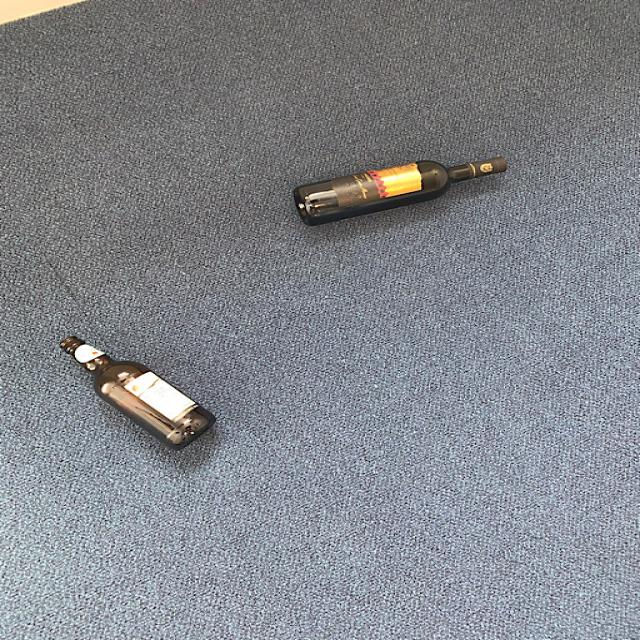litter: (51, 330, 232, 458), (289, 149, 515, 228)
